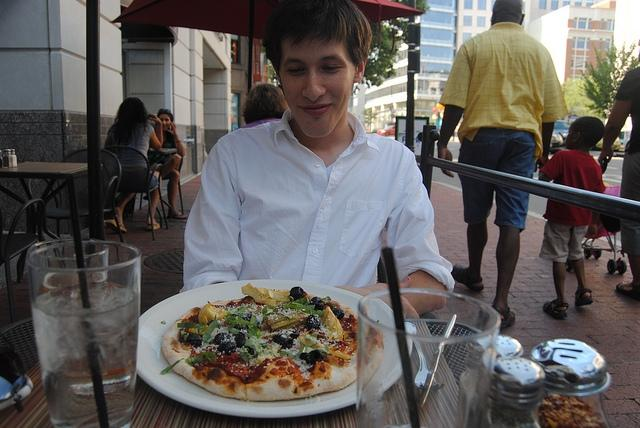hot pepper: (538, 394, 602, 428), (2, 148, 10, 168)
